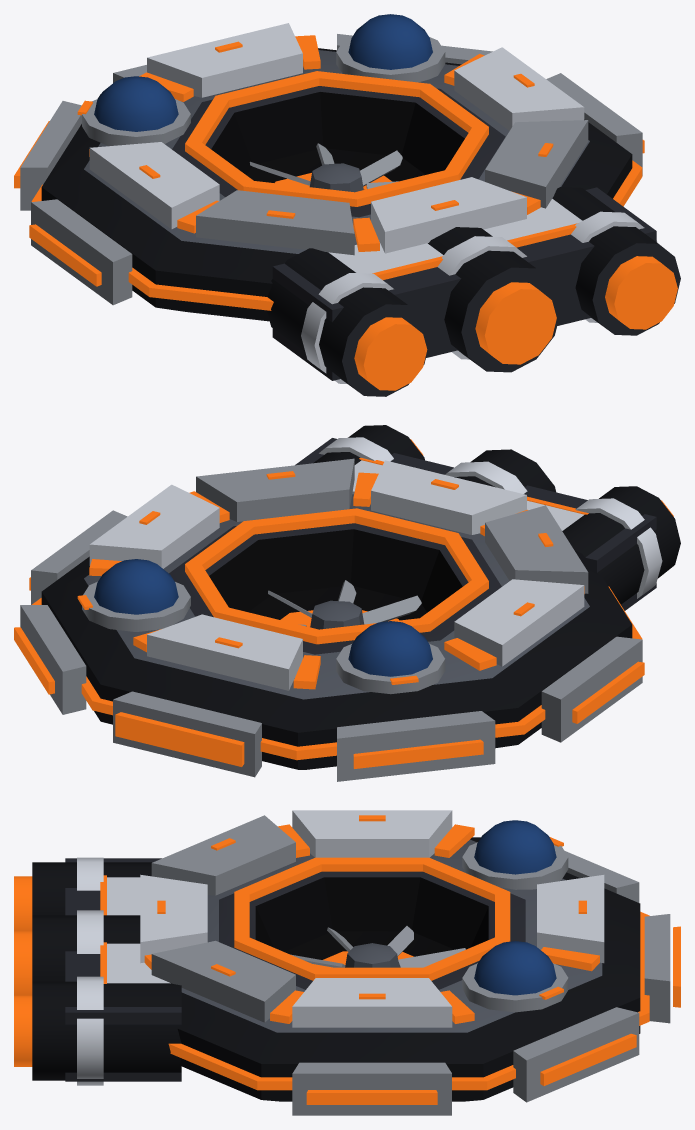
Rendered from avrocar_vz-9-av_experimental_aircraft.glb.
The picture shows the model from 3 angles, top to bottom: view 1: azimuth 30°, elevation 25°; view 2: azimuth 150°, elevation 25°; view 3: azimuth 270°, elevation 25°; orthographic projection. The views are drawn at different scales.
Parts seen in each view (by area): view 1: SJ_AVROCAR; view 2: SJ_AVROCAR; view 3: SJ_AVROCAR.
Part boxes in pixels (x1,y1,x2,y2): SJ_AVROCAR: [14, 14, 680, 396]; SJ_AVROCAR: [14, 425, 680, 781]; SJ_AVROCAR: [14, 810, 680, 1115].
Bounding box in the file's own units: 3.72 × 0.99 × 4.02.
Materials: 2 (2 with a texture image).
